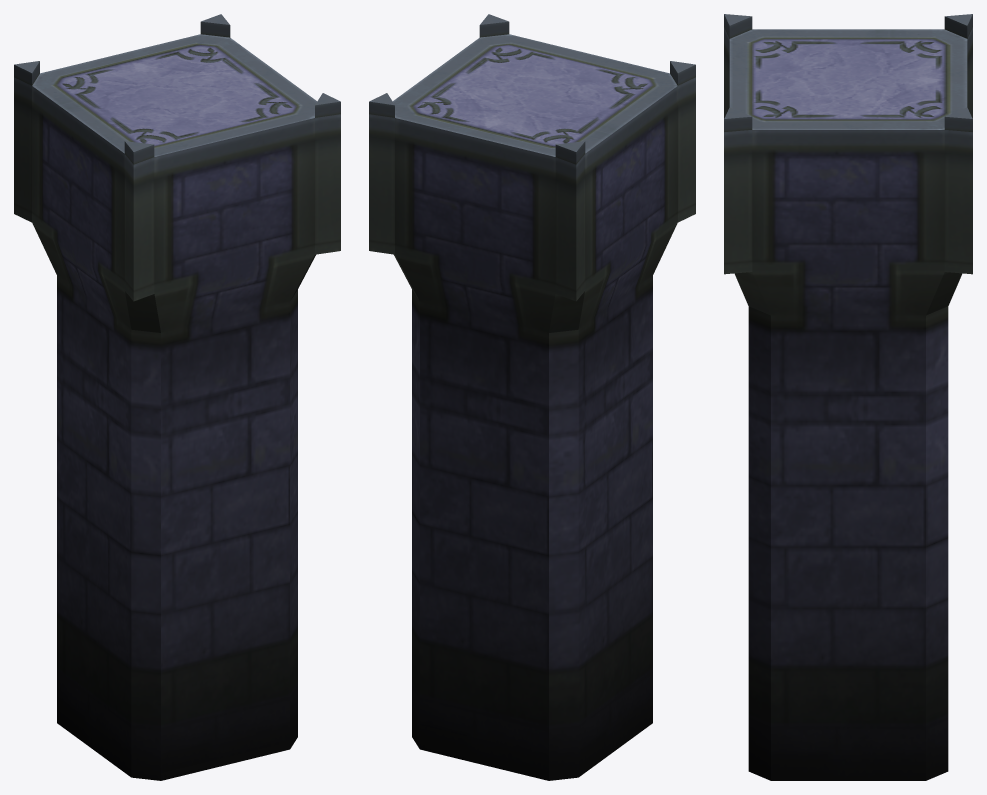
The model's file is GHmG_4_01.FBX.
3 views of the same model, side by side, from view 1: azimuth 30°, elevation 25°; view 2: azimuth 150°, elevation 25°; view 3: azimuth 270°, elevation 25° (orthographic). The views are drawn at different scales.
Visible parts, largest first — view 1: Box11; view 2: Box11; view 3: Box11.
Boxes of the visible parts, bbox=[...] form: Box11: bbox=[14, 14, 340, 780]; Box11: bbox=[369, 14, 695, 780]; Box11: bbox=[724, 14, 972, 780].
Bounding box in the file's own units: 2.09 × 6.24 × 2.09.
